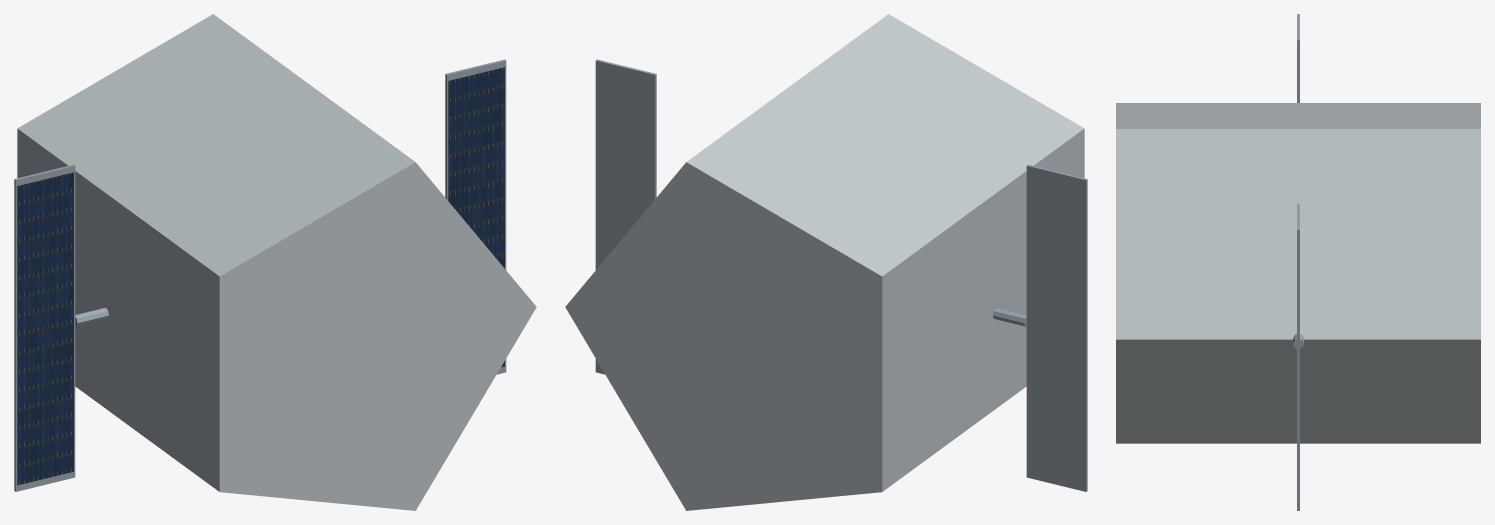
File: ref-eos-sat-55053.glb
The picture shows the model from 3 angles, left to right: view 1: azimuth 30°, elevation 25°; view 2: azimuth 150°, elevation 25°; view 3: azimuth 270°, elevation 25°; orthographic projection. The views are drawn at different scales.
Parts seen in each view (by area): view 1: Spacecraft body, Photovoltaic laminates (×2), Array frame (×2); view 2: Spacecraft body, Array frame (×2); view 3: Spacecraft body, Array frame.
Boxes of the visible parts, x1,y1,x2,y2 form: Spacecraft body: [17, 14, 536, 510]; Photovoltaic laminates (×2): [17, 67, 504, 485]; Array frame (×2): [14, 59, 506, 491]; Spacecraft body: [565, 14, 1084, 510]; Array frame (×2): [595, 59, 1087, 491]; Spacecraft body: [1116, 103, 1480, 443]; Array frame: [1297, 203, 1299, 510].
Bounding box in the file's own units: 0.7 × 0.4755 × 0.5.
3 materials, 1 textured.
